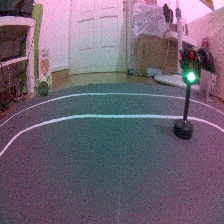green: (172, 45, 204, 142)
